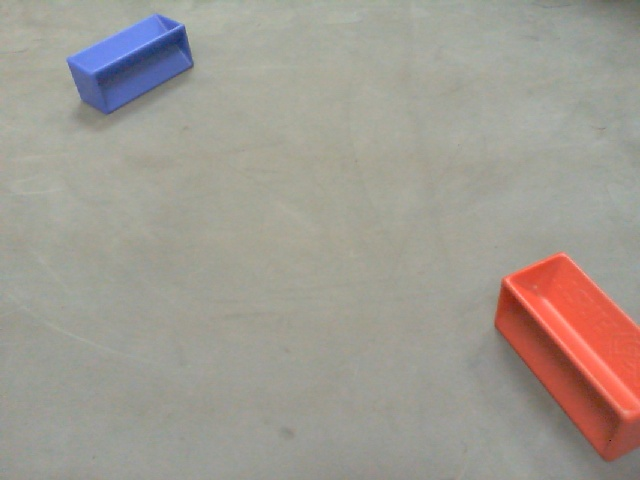BlueSample: (66, 11, 199, 115)
RedSample: (493, 245, 640, 466)
